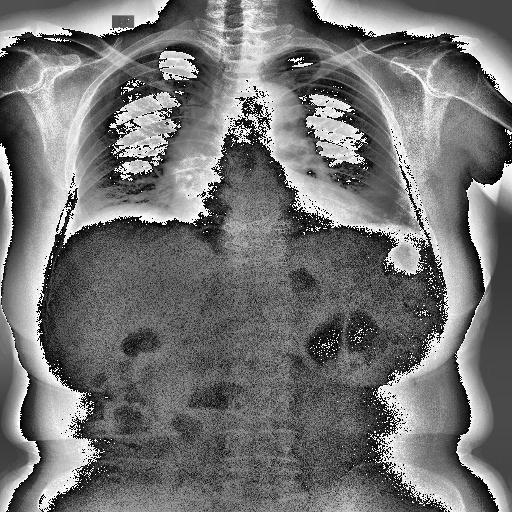0- Aortic enlargement: (237, 82, 306, 164), (238, 80, 308, 140), (254, 80, 308, 136)
3- Cardiomegaly: (162, 170, 386, 222), (172, 180, 392, 232), (160, 180, 396, 226)
